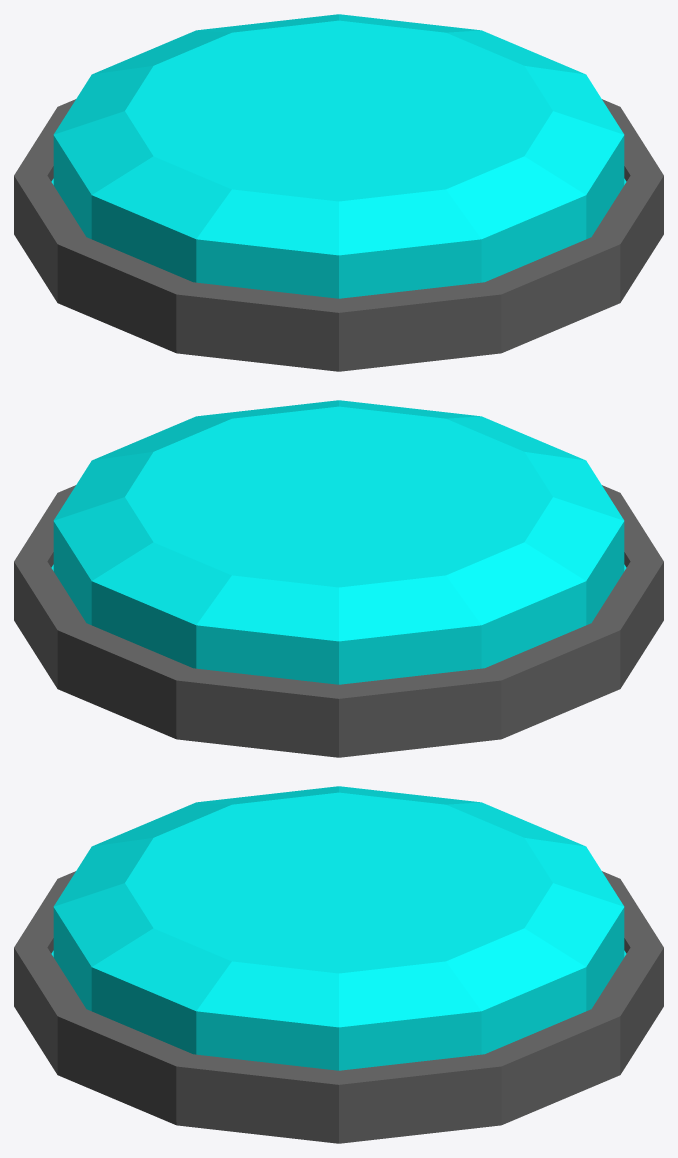
The model's file is Button Low.fbx.
The picture shows the model from 3 angles, top to bottom: view 1: azimuth 30°, elevation 25°; view 2: azimuth 150°, elevation 25°; view 3: azimuth 270°, elevation 25°; orthographic projection.
Visible parts, largest first — view 1: pCylinder1; view 2: pCylinder1; view 3: pCylinder1.
Boxes of the visible parts, bbox=[...] form: pCylinder1: bbox=[14, 14, 663, 371]; pCylinder1: bbox=[14, 400, 663, 757]; pCylinder1: bbox=[14, 786, 663, 1143].
Bounding box in the file's own units: 2 × 0.4189 × 2.
